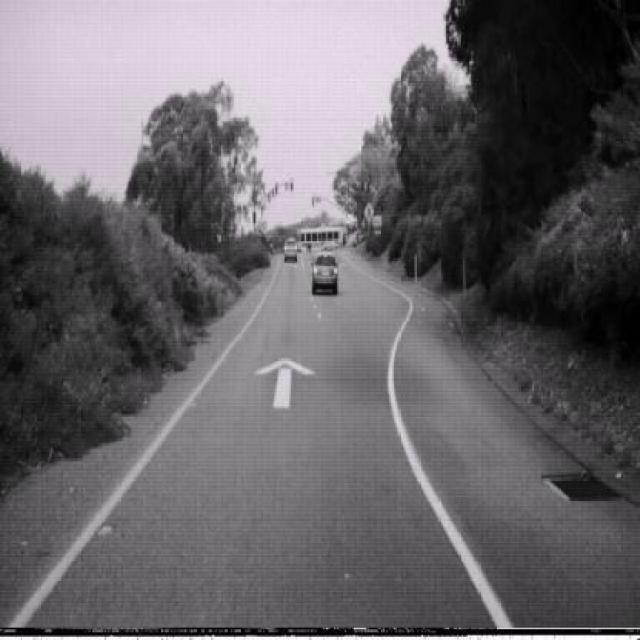pedestrianCrossing: (363, 199, 374, 223)
